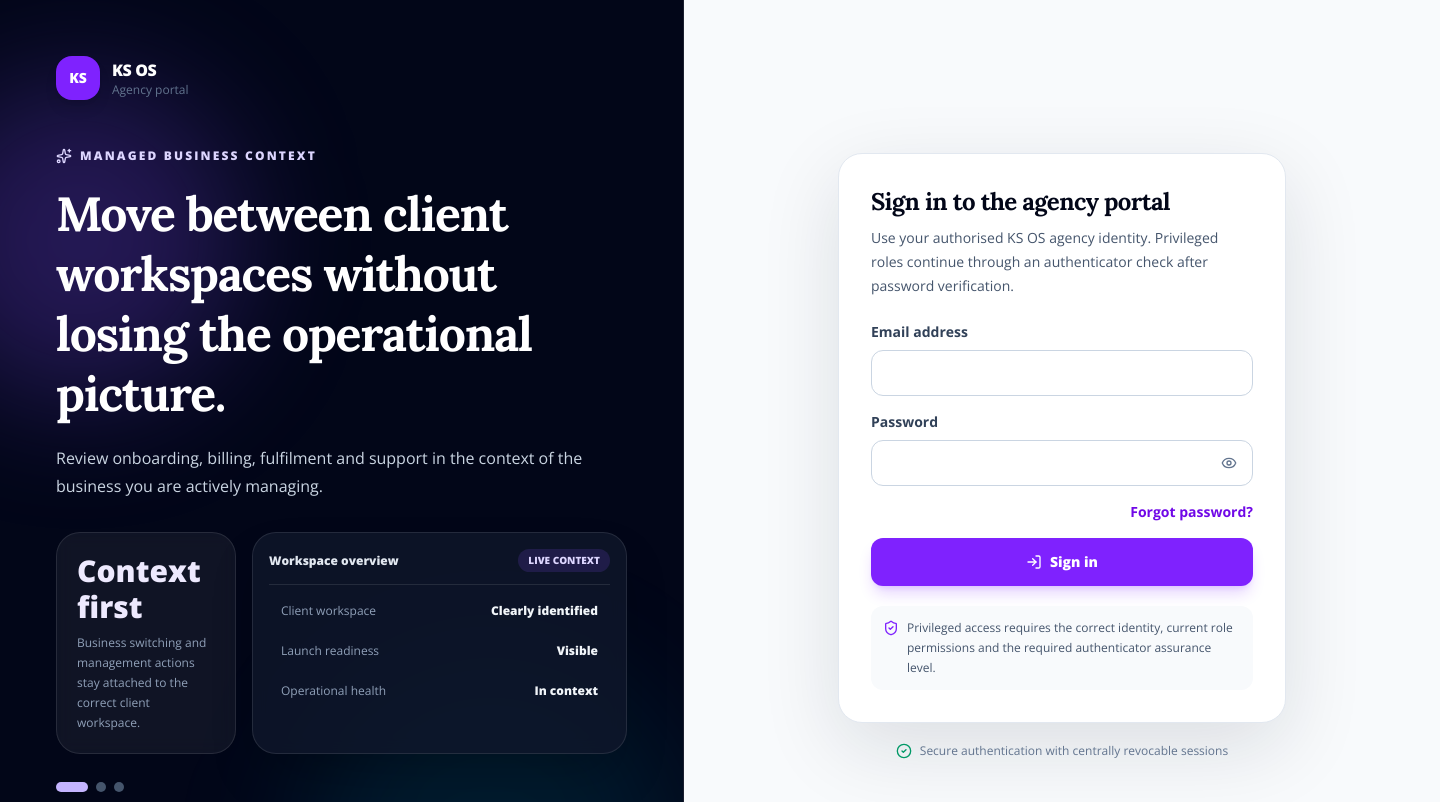
agency sign-in › shows the right error for provider status 429
The width and height of the screenshot is (1440, 802).
Step 1. Type "test@example.invalid" into the field labelled "Email address" → point(1062, 373), box [871, 350, 1253, 396]
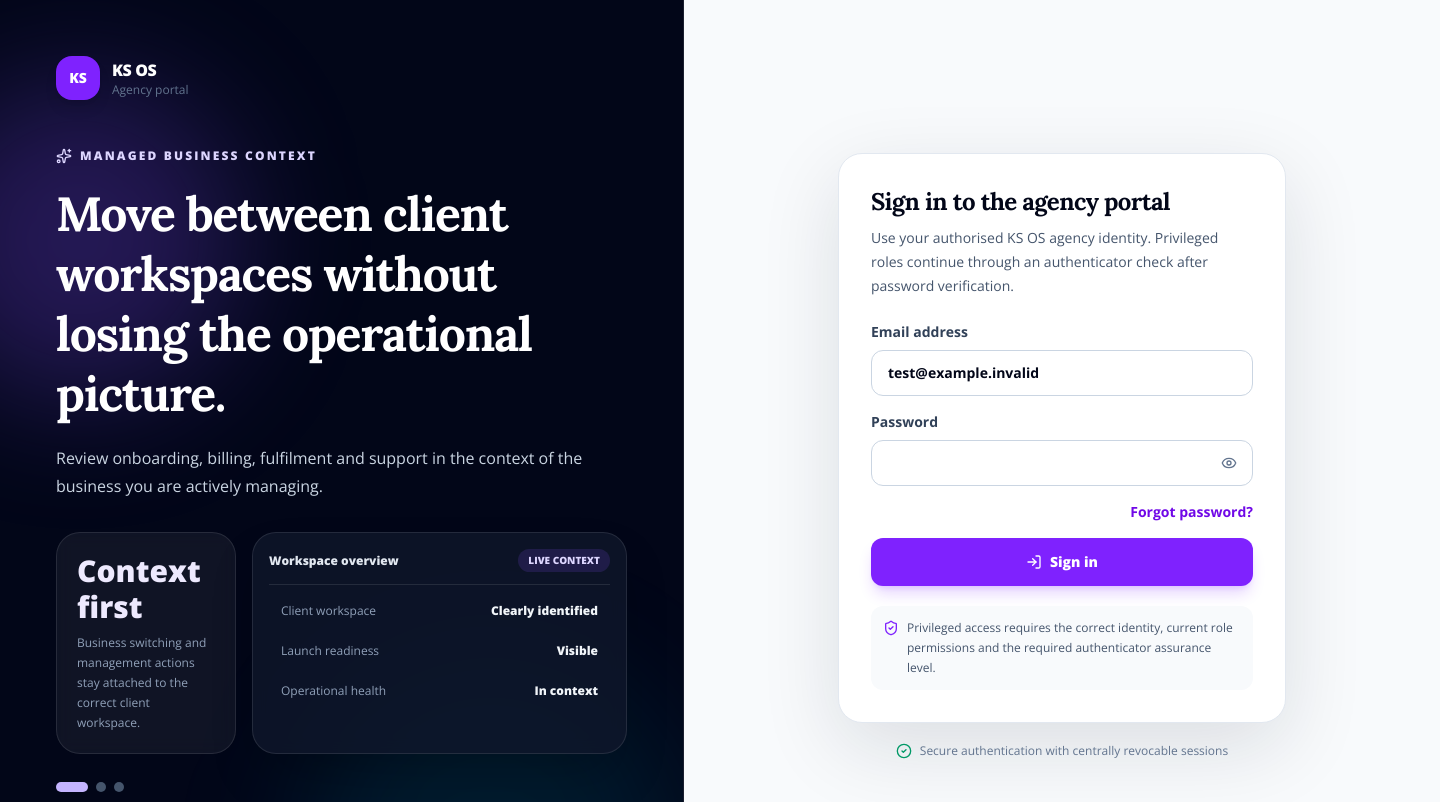
Step 2. Type "test-password" into the password field labelled "Password" → point(1062, 463), box [871, 440, 1253, 486]
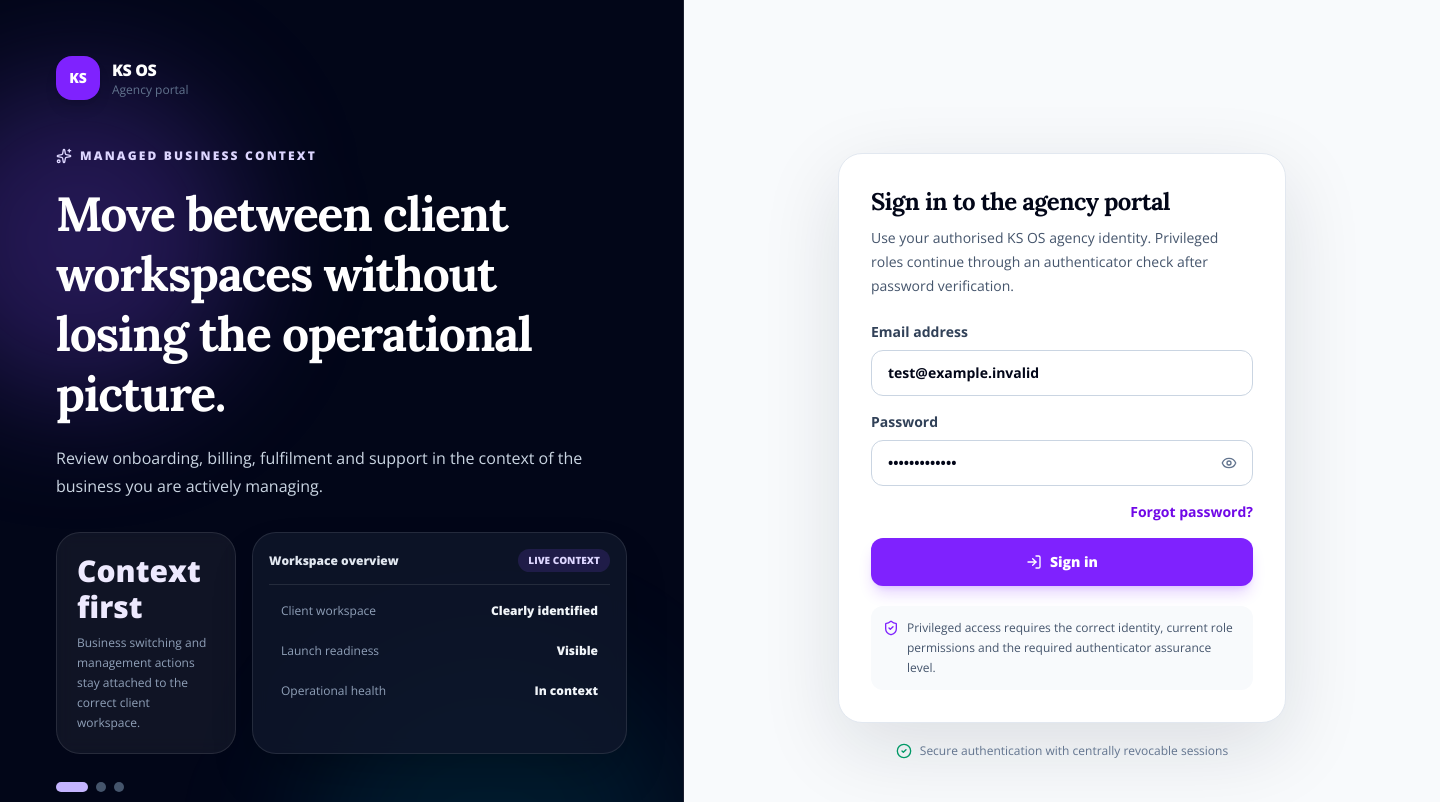
Step 3. Submit the form "Sign in", box [871, 322, 1253, 586]
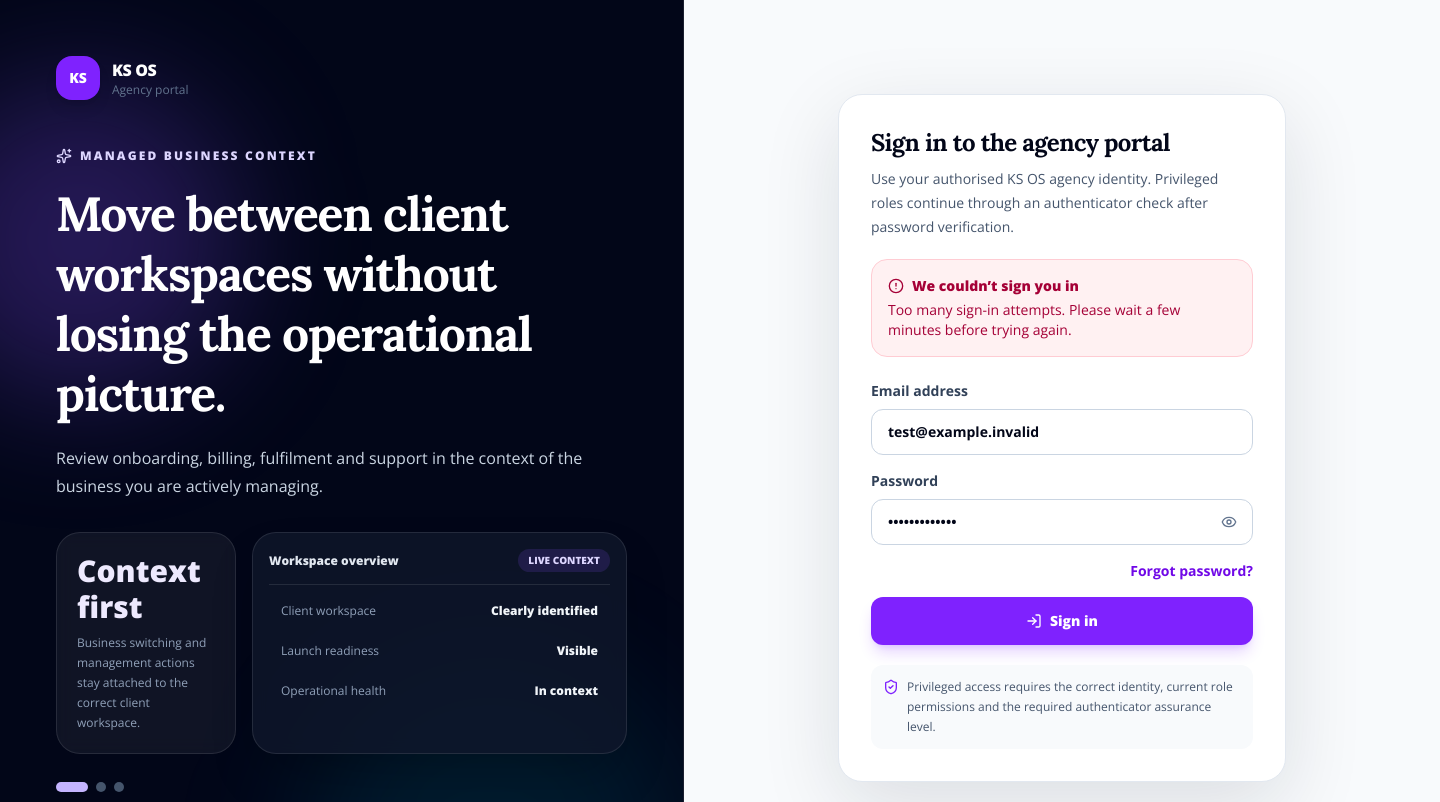
Expected: the button "Sign in" is enabled, [871, 597, 1253, 645]
Now the message shows "Too many sign-in attempts", box [888, 300, 1180, 339]
